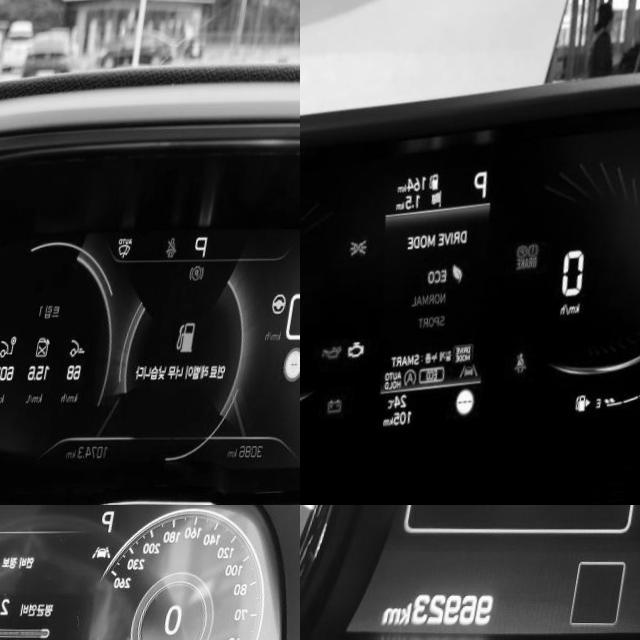LaneCenteringOff: (100, 545, 120, 559)
Low fuel level: (190, 321, 211, 353)
SideLamp: (359, 237, 380, 256)
